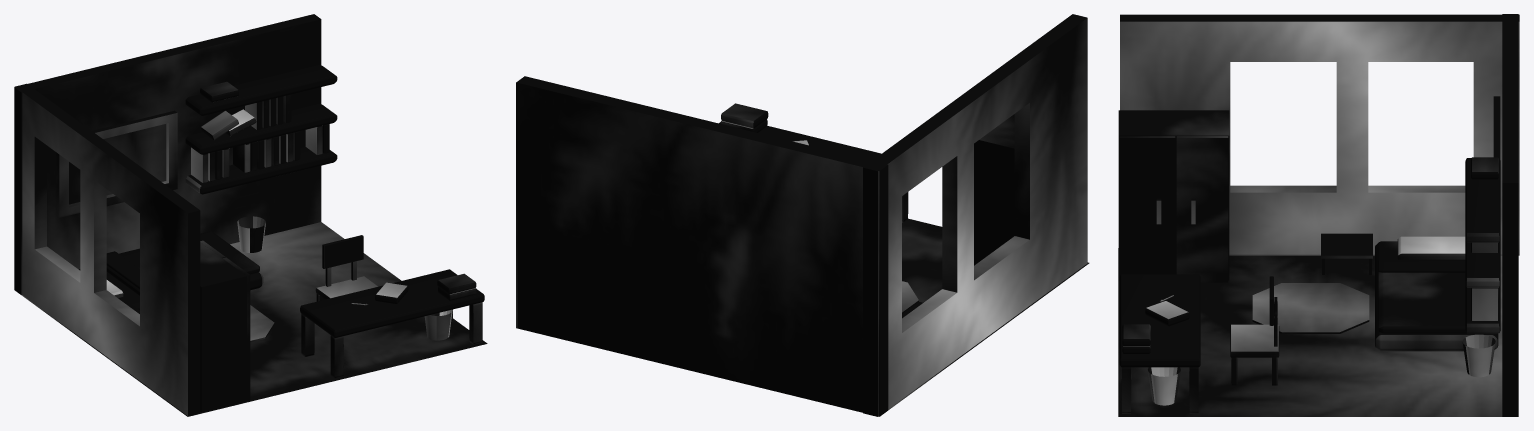
File: second_darkroomuv.glb
The picture shows the model from 3 angles, left to right: view 1: azimuth 30°, elevation 25°; view 2: azimuth 150°, elevation 25°; view 3: azimuth 270°, elevation 25°; orthographic projection. The views are drawn at different scales.
Visible parts, largest first — view 1: completehouseindarkness_unwrapping_texture:CompleteHouseroom; view 2: completehouseindarkness_unwrapping_texture:CompleteHouseroom; view 3: completehouseindarkness_unwrapping_texture:CompleteHouseroom.
Part boxes in pixels (x1,y1,x2,y2): completehouseindarkness_unwrapping_texture:CompleteHouseroom: [14, 14, 487, 416]; completehouseindarkness_unwrapping_texture:CompleteHouseroom: [516, 14, 1089, 416]; completehouseindarkness_unwrapping_texture:CompleteHouseroom: [1118, 14, 1519, 416].
Size of the model in its own units: 24.04 by 15.5 by 24.1.
1 material, 1 textured.
